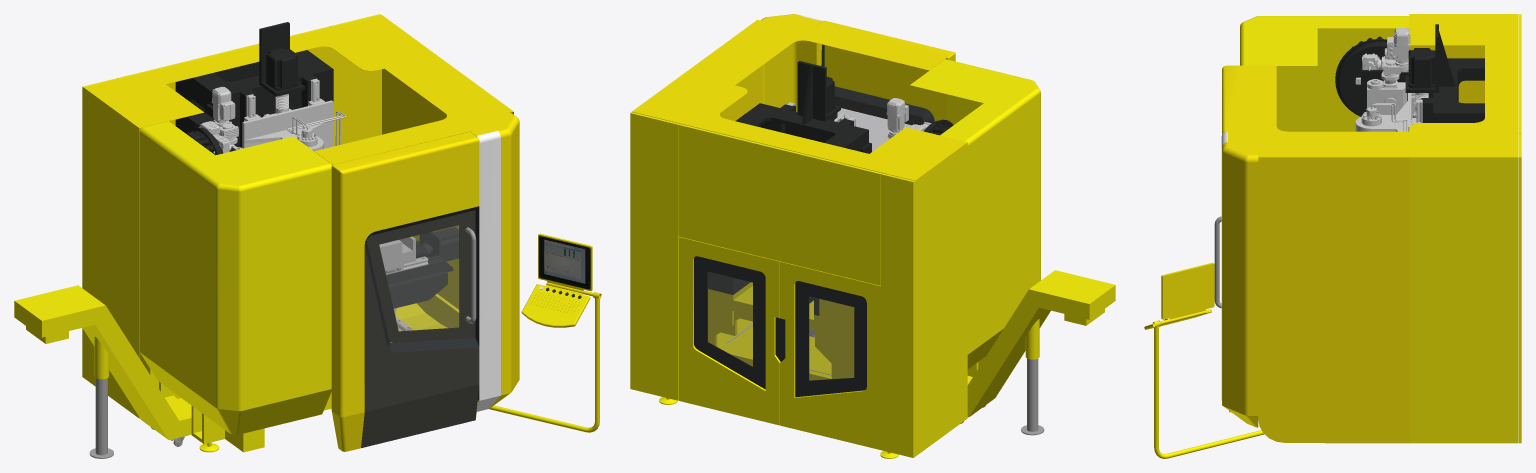
Rendered from machine-idle.glb.
The picture shows the model from 3 angles, left to right: view 1: azimuth 30°, elevation 25°; view 2: azimuth 150°, elevation 25°; view 3: azimuth 270°, elevation 25°; orthographic projection. The views are drawn at different scales.
Visible parts, largest first — view 1: CNC_Machine_with_Doors_mesh76_192, CNC_Machine_with_Doors_mesh106_184, CNC_Machine_with_Doors_mesh72_176, CNC_Machine_with_Doors_mesh179_180, CNC_Machine_with_Doors_mesh83_202, CNC_Machine_with_Doors_mesh78_196, CNC_Machine_with_Doors_mesh103_232, CNC_Machine_with_Doors_mesh88_206, CNC_Machine_with_Doors_mesh135_336, CNC_Machine_with_Doors_mesh77_198, CNC_Machine_with_Doors_mesh110_178, CNC_Machine_with_Doors_mesh80_200 (+8 smaller); view 2: CNC_Machine_with_Doors_mesh132_272, CNC_Machine_with_Doors_mesh106_184, CNC_Machine_with_Doors_mesh76_192, CNC_Machine_with_Doors_mesh101_194, CNC_Machine_with_Doors_mesh85_204, CNC_Machine_with_Doors_mesh179_180, CNC_Machine_with_Doors_mesh103_232, CNC_Machine_with_Doors_mesh100_230, CNC_Machine_with_Doors_mesh72_176, CNC_Machine_with_Doors_mesh77_198, CNC_Machine_with_Doors_mesh73_186, CNC_Machine_with_Doors_mesh78_196 (+2 smaller); view 3: CNC_Machine_with_Doors_mesh106_184, CNC_Machine_with_Doors_mesh74_188, CNC_Machine_with_Doors_mesh76_192, CNC_Machine_with_Doors_mesh88_206, CNC_Machine_with_Doors_mesh103_232, CNC_Machine_with_Doors_mesh91_214, CNC_Machine_with_Doors_mesh101_194, CNC_Machine_with_Doors_mesh72_176, CNC_Machine_with_Doors_mesh44_104, CNC_Machine_with_Doors_mesh37_90, CNC_Machine_with_Doors_mesh41_96, CNC_Machine_with_Doors_mesh124_248 (+4 smaller).
Part boxes in pixels (left/top/right/bottom): CNC_Machine_with_Doors_mesh76_192: left=139, top=121, right=331, bottom=434; CNC_Machine_with_Doors_mesh106_184: left=84, top=15, right=519, bottom=418; CNC_Machine_with_Doors_mesh72_176: left=331, top=131, right=479, bottom=451; CNC_Machine_with_Doors_mesh179_180: left=14, top=285, right=191, bottom=439; CNC_Machine_with_Doors_mesh83_202: left=364, top=244, right=479, bottom=411; CNC_Machine_with_Doors_mesh78_196: left=379, top=225, right=458, bottom=330; CNC_Machine_with_Doors_mesh103_232: left=175, top=22, right=333, bottom=147; CNC_Machine_with_Doors_mesh88_206: left=489, top=233, right=601, bottom=432; CNC_Machine_with_Doors_mesh135_336: left=477, top=130, right=500, bottom=400; CNC_Machine_with_Doors_mesh77_198: left=353, top=192, right=479, bottom=449; CNC_Machine_with_Doors_mesh110_178: left=367, top=210, right=476, bottom=342; CNC_Machine_with_Doors_mesh80_200: left=361, top=384, right=479, bottom=447; CNC_Machine_with_Doors_mesh132_272: left=678, top=124, right=881, bottom=449; CNC_Machine_with_Doors_mesh106_184: left=632, top=14, right=967, bottom=456; CNC_Machine_with_Doors_mesh76_192: left=910, top=59, right=1040, bottom=369; CNC_Machine_with_Doors_mesh101_194: left=630, top=112, right=678, bottom=400; CNC_Machine_with_Doors_mesh85_204: left=881, top=173, right=914, bottom=457; CNC_Machine_with_Doors_mesh179_180: left=967, top=270, right=1115, bottom=417; CNC_Machine_with_Doors_mesh103_232: left=708, top=61, right=868, bottom=315; CNC_Machine_with_Doors_mesh100_230: left=708, top=282, right=985, bottom=380; CNC_Machine_with_Doors_mesh72_176: left=816, top=20, right=955, bottom=119; CNC_Machine_with_Doors_mesh77_198: left=826, top=71, right=941, bottom=123; CNC_Machine_with_Doors_mesh73_186: left=1021, top=358, right=1044, bottom=435; CNC_Machine_with_Doors_mesh78_196: left=837, top=108, right=911, bottom=151; CNC_Machine_with_Doors_mesh106_184: left=1222, top=14, right=1518, bottom=443; CNC_Machine_with_Doors_mesh74_188: left=1409, top=157, right=1518, bottom=443; CNC_Machine_with_Doors_mesh76_192: left=1240, top=16, right=1409, bottom=131; CNC_Machine_with_Doors_mesh88_206: left=1144, top=262, right=1264, bottom=458; CNC_Machine_with_Doors_mesh103_232: left=1405, top=24, right=1484, bottom=122; CNC_Machine_with_Doors_mesh91_214: left=1335, top=39, right=1410, bottom=116; CNC_Machine_with_Doors_mesh101_194: left=1518, top=133, right=1521, bottom=443; CNC_Machine_with_Doors_mesh72_176: left=1222, top=65, right=1239, bottom=134; CNC_Machine_with_Doors_mesh44_104: left=1408, top=48, right=1435, bottom=88; CNC_Machine_with_Doors_mesh37_90: left=1382, top=28, right=1410, bottom=78; CNC_Machine_with_Doors_mesh41_96: left=1367, top=81, right=1407, bottom=114; CNC_Machine_with_Doors_mesh124_248: left=1355, top=93, right=1411, bottom=131.
Bounding box in the file's own units: 4.33 × 3.21 × 3.12.
Materials: 12 (1 with a texture image).
